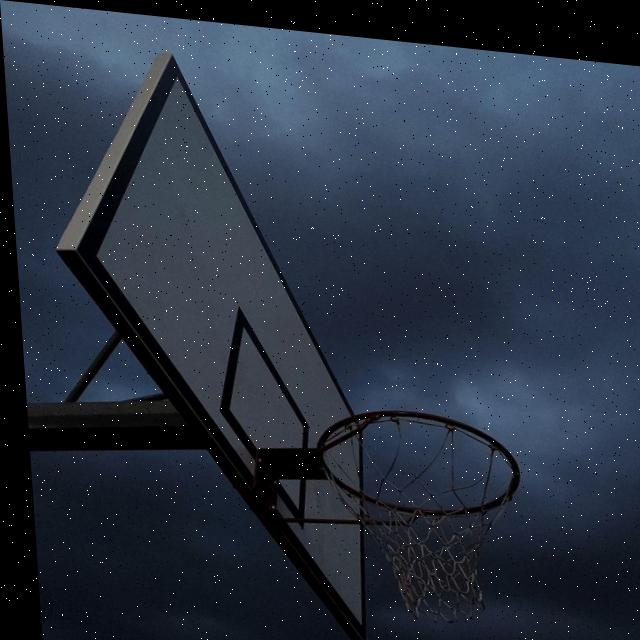hoop: (306, 386, 577, 629)
